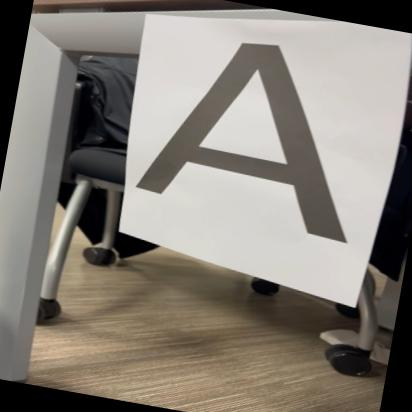seat: (120, 19, 400, 253)
